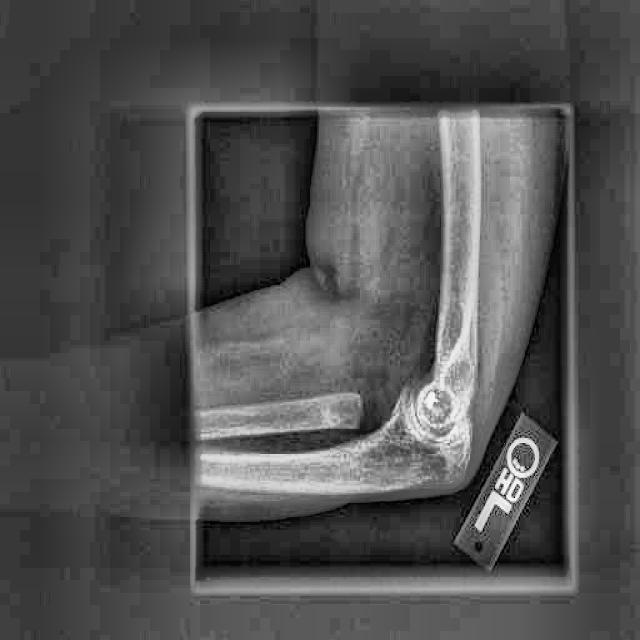elbow positive: (327, 372, 426, 456)
